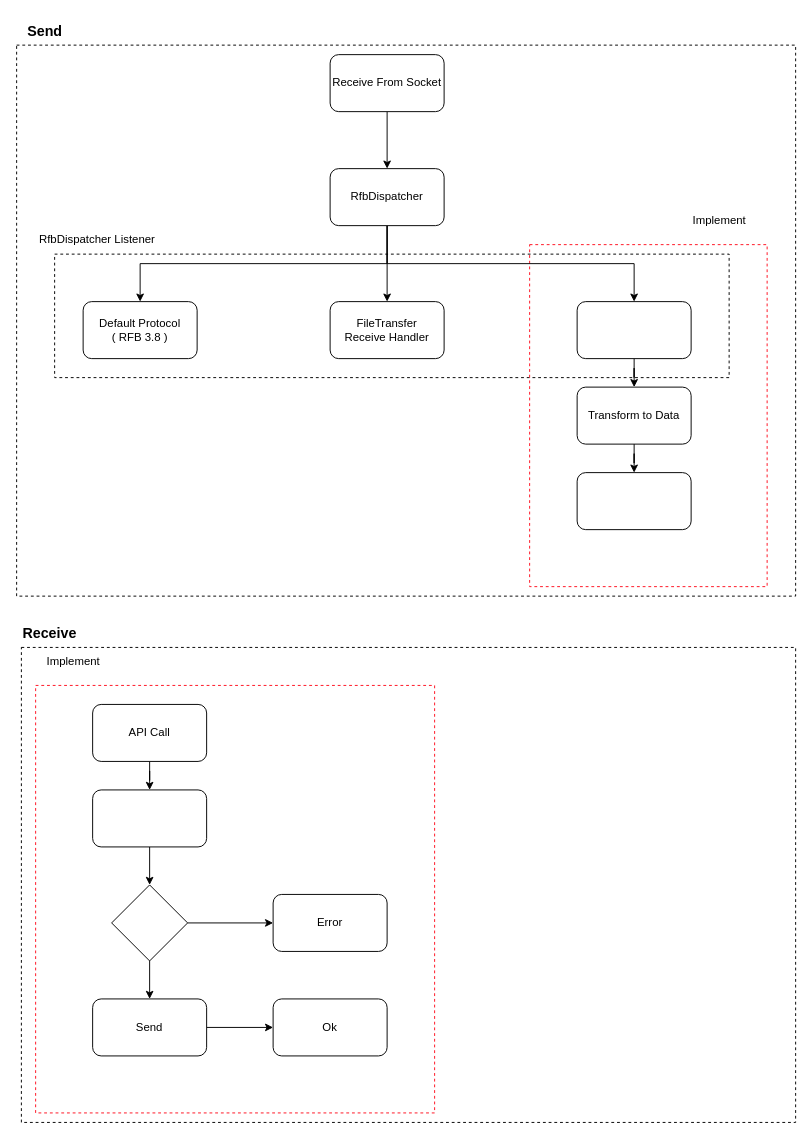
Some shapes in this 812 by 1139 pixel diagram are drawn without their labels. Each missing label, with the box of its shape:
Callback to Client: (576, 472, 691, 530)
Checking Capabilitys: (111, 884, 188, 961)
Option Receive Handler: (576, 301, 691, 359)
Option Send Handler: (92, 789, 207, 847)
